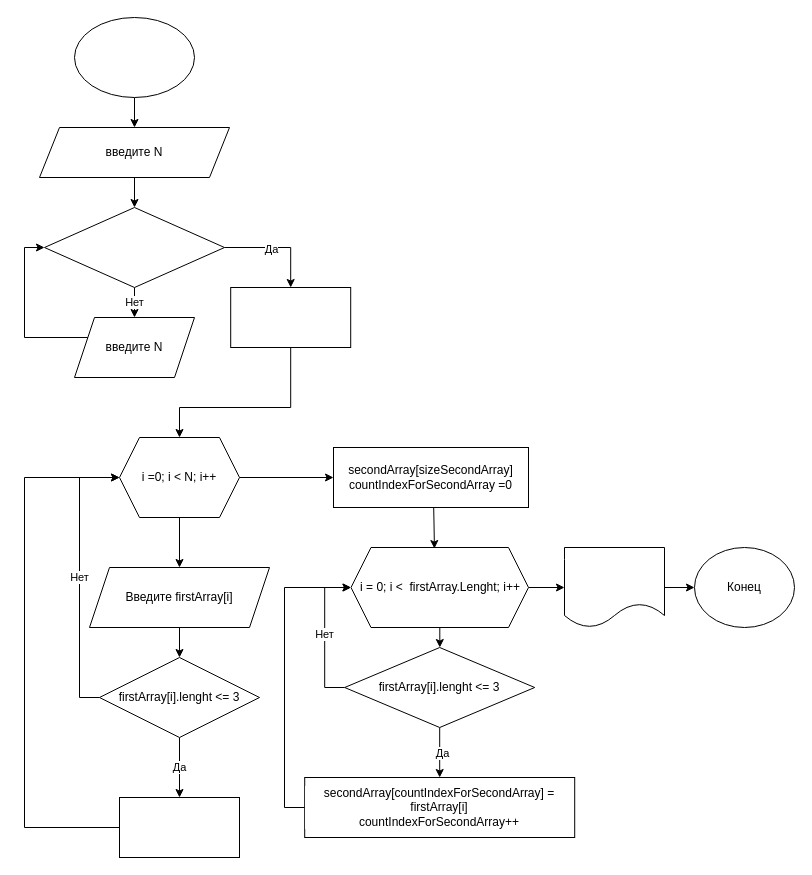
This 812x875 diagram has some shape labels left out. Here are the shapes that lost their labels. From the top down, the centre of each, then its label:
At [134,57]: "Начало".
At [134,247]: "N целое число".
At [290,317]: "firstArray[N] sizeSecondArray =0".
At [614,587]: "Print firstArray Print secondArray".
At [179,827]: "sizeSecondArray++".
